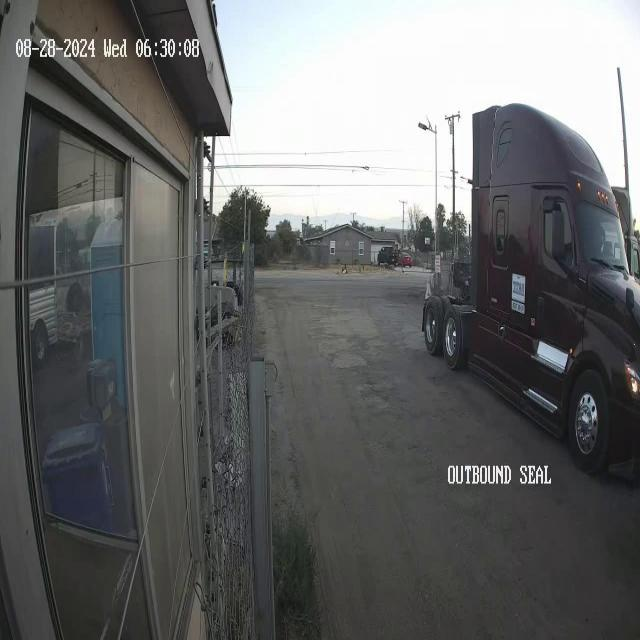TRUCK_IN: (422, 98, 639, 476)
